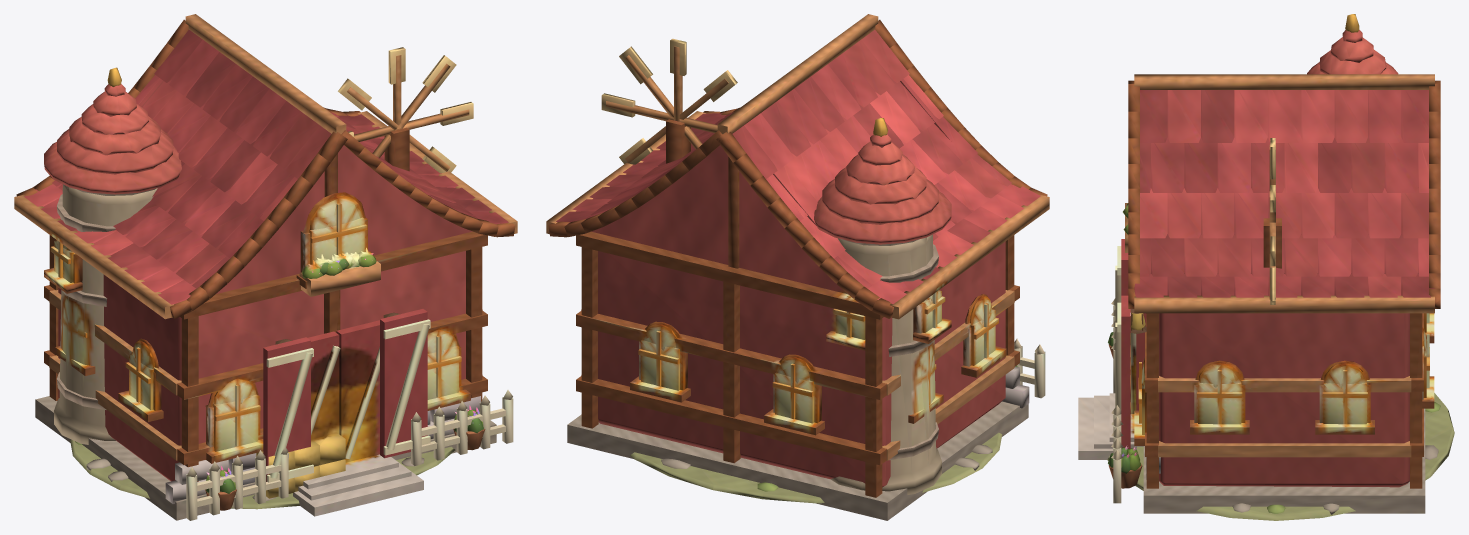
Rendered from bld_farm_barn.glb.
3 views of the same model, side by side, from view 1: azimuth 30°, elevation 25°; view 2: azimuth 150°, elevation 25°; view 3: azimuth 270°, elevation 25° (orthographic).
Parts seen in each view (by area): view 1: Body, Windmill; view 2: Body, Windmill; view 3: Body, Windmill.
Part boxes in pixels (x1,y1,x2,y2): Body: (14,14,517,520); Windmill: (338,47,473,173); Body: (546,14,1049,520); Windmill: (601,38,737,164); Body: (1078,14,1454,520); Windmill: (1269,138,1275,304).
Size of the model in its own units: 5.28 by 4.85 by 4.53.
Materials: 1 (1 with a texture image).
